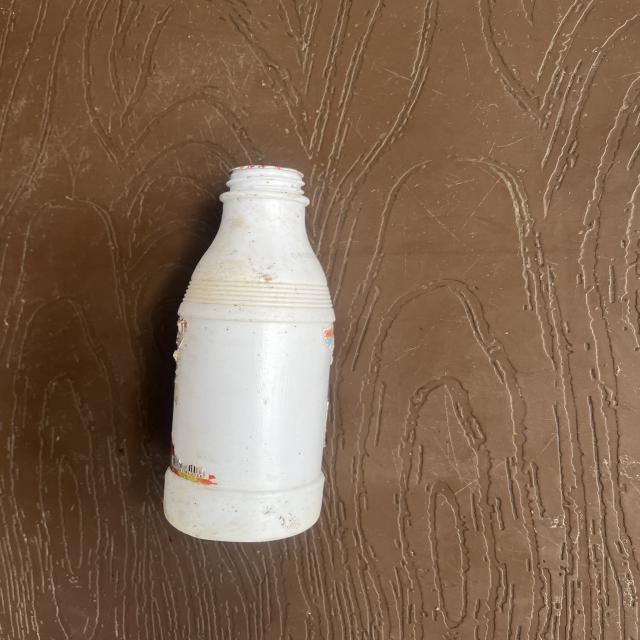REJECT: (33, 167, 366, 548)
